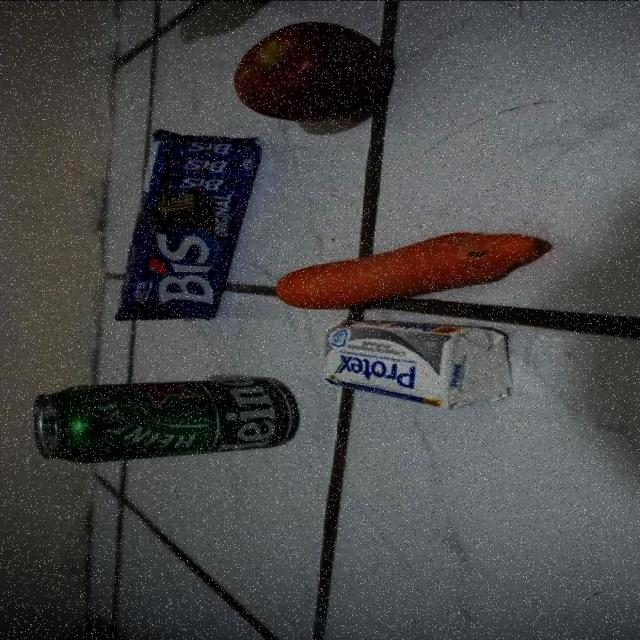Apple: (234, 23, 386, 118)
BeerCan: (35, 378, 287, 462)
Carrot: (271, 232, 550, 310)
Soap: (316, 322, 502, 404)
